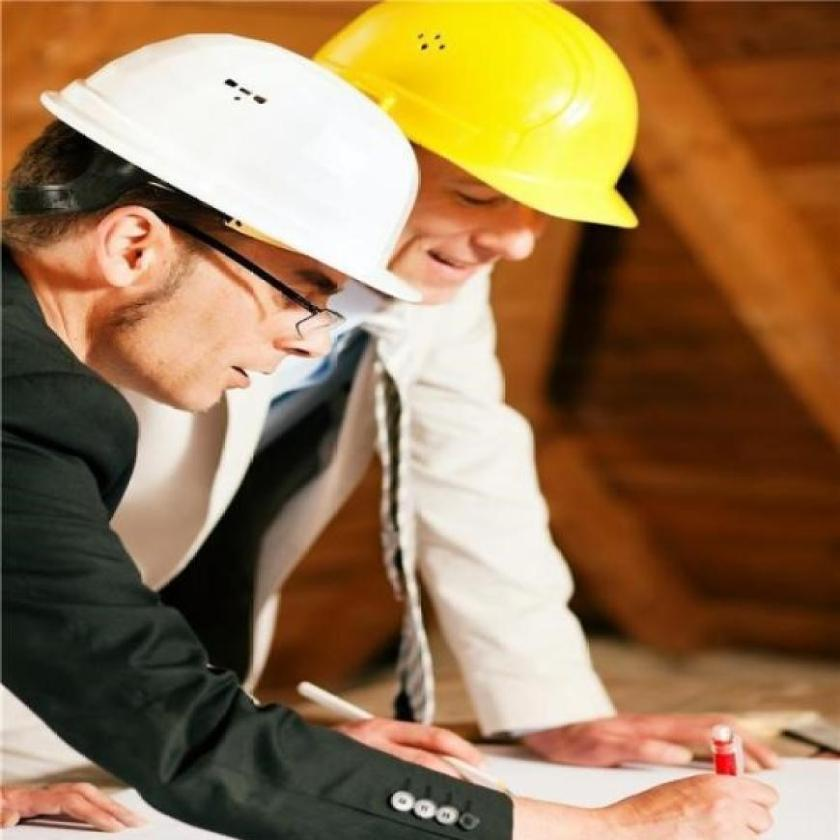Con_casco: (17, 10, 419, 418), (397, 11, 651, 300)
